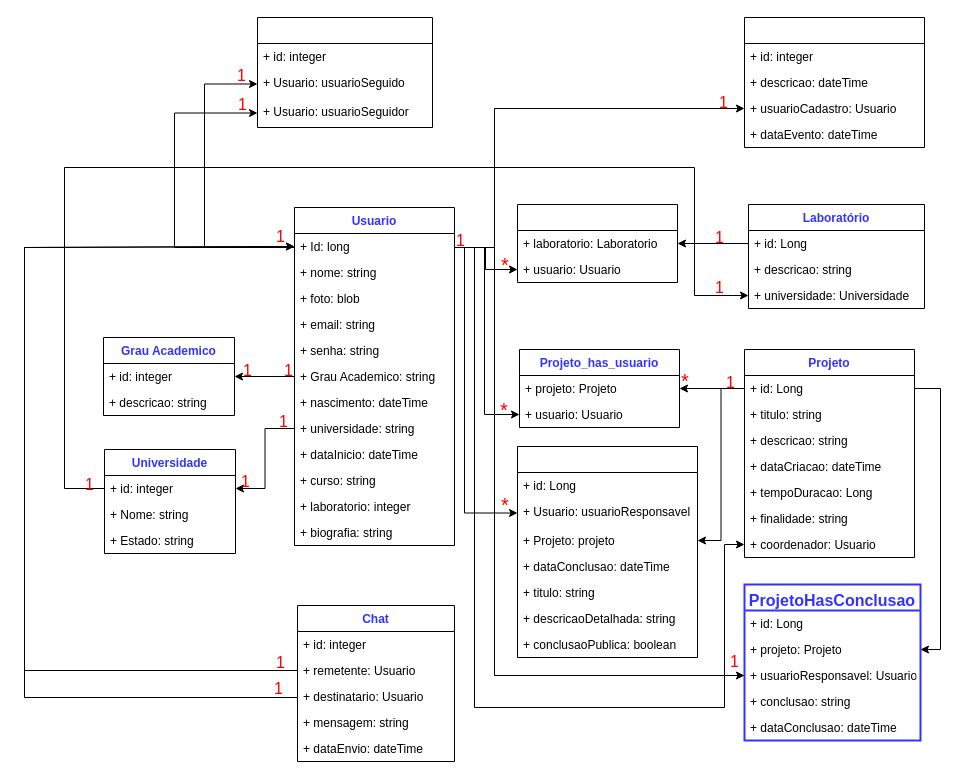
Some shapes in this 966 by 782 pixel diagram are drawn without their labels. Here are the shapes that lost their labels. From the top down, the box of each, then its label:
(256, 16, 432, 128): Usuario_has_conexao
(744, 16, 924, 148): AgendaDeLaboratorio
(516, 204, 678, 282): Laboratorio_has_usuario
(516, 446, 698, 658): Projeto_has_conclusao
